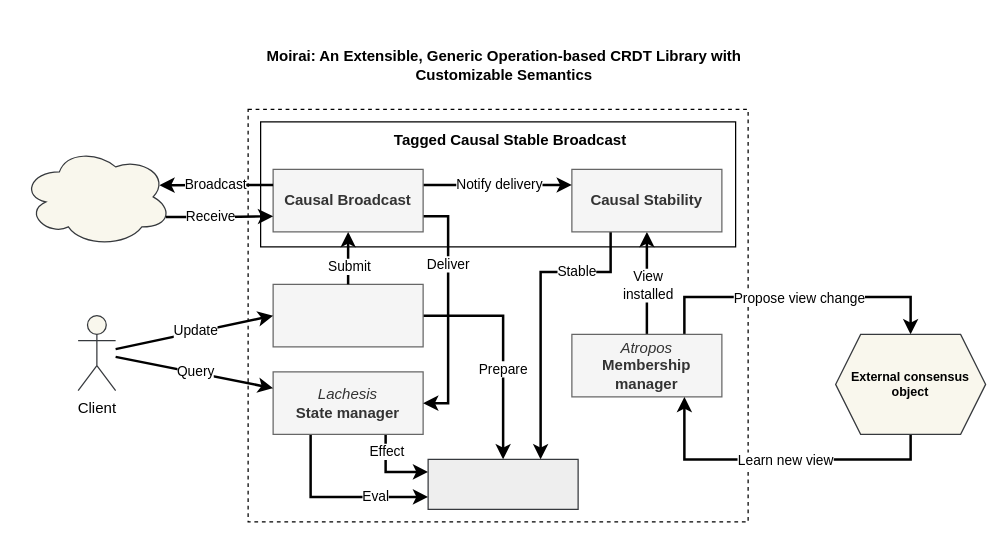
Some shapes in this 1008 by 544 pixel diagram are drawn without their labels. Each missing label, with the box of its shape:
Clotho Event creator: (272, 283, 423, 347)
Log: (427, 458, 578, 509)
Network: (21, 146, 172, 247)
